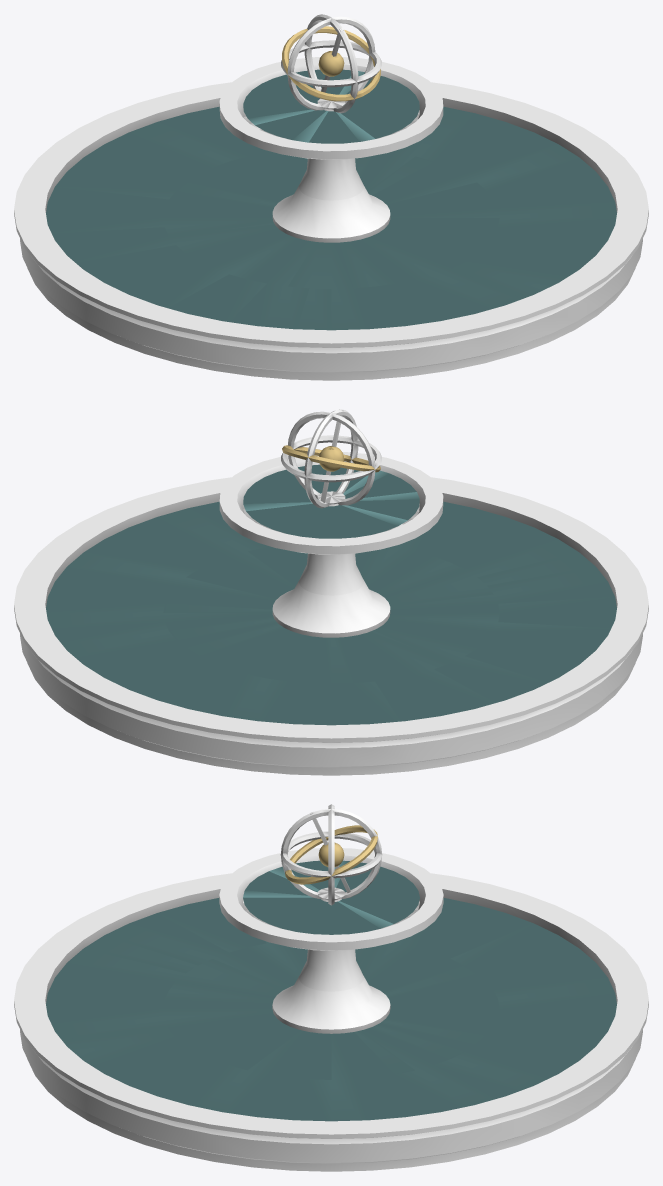
File: fountain.glb
The picture shows the model from 3 angles, top to bottom: view 1: azimuth 30°, elevation 25°; view 2: azimuth 150°, elevation 25°; view 3: azimuth 270°, elevation 25°; orthographic projection.
Parts seen in each view (by area): view 1: fountain_CL_Water, fountain_CL_Stone, fountain_CL_Copper, fountain_CL_Gilt; view 2: fountain_CL_Water, fountain_CL_Stone, fountain_CL_Copper, fountain_CL_Gilt; view 3: fountain_CL_Water, fountain_CL_Stone, fountain_CL_Copper, fountain_CL_Gilt.
Part boxes in pixels (<box>): fountain_CL_Water: <box>46,69,616,330</box>; fountain_CL_Stone: <box>14,57,648,380</box>; fountain_CL_Copper: <box>281,14,381,113</box>; fountain_CL_Gilt: <box>282,26,380,101</box>; fountain_CL_Water: <box>46,464,616,725</box>; fountain_CL_Stone: <box>14,452,648,775</box>; fountain_CL_Copper: <box>281,409,381,508</box>; fountain_CL_Gilt: <box>282,445,380,472</box>; fountain_CL_Water: <box>46,860,616,1121</box>; fountain_CL_Stone: <box>14,848,648,1171</box>; fountain_CL_Copper: <box>280,804,382,905</box>; fountain_CL_Gilt: <box>285,825,377,884</box>.
Bounding box in the file's own units: 10.76 × 4.36 × 10.76.
